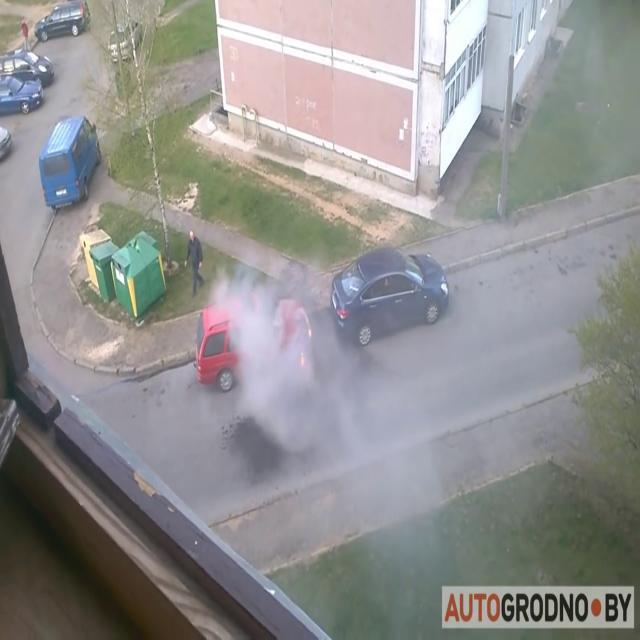Smoke: (210, 248, 373, 468)
